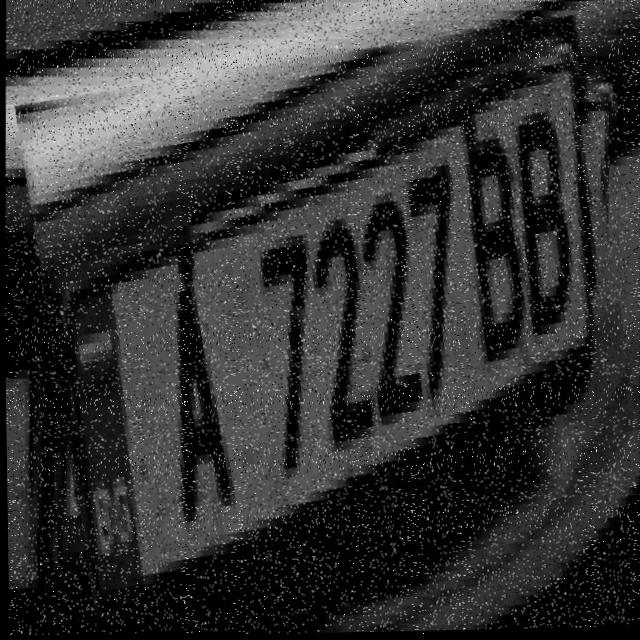LicensePlate: (23, 27, 640, 637)
